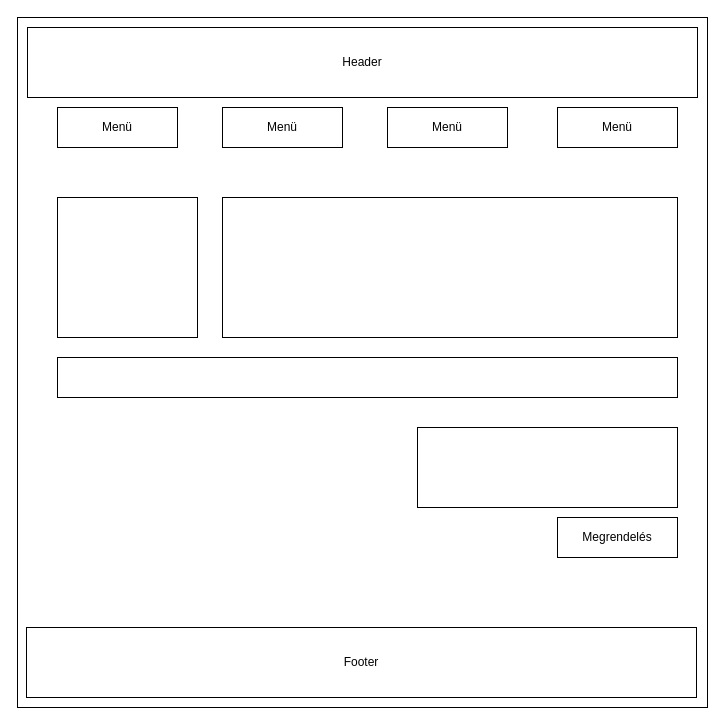
The diagram is 725 pixels wide and 725 high, and some of its shapes have lost their labels. Here are the shapes that lost their labels. From the top down, the centre of each, then its label:
At [127,267]: "Könyv képe".
At [450,267]: "Összegzés: szállítás, db, forint".
At [367,377]: "Kupon".
At [547,467]: "Összesen".
